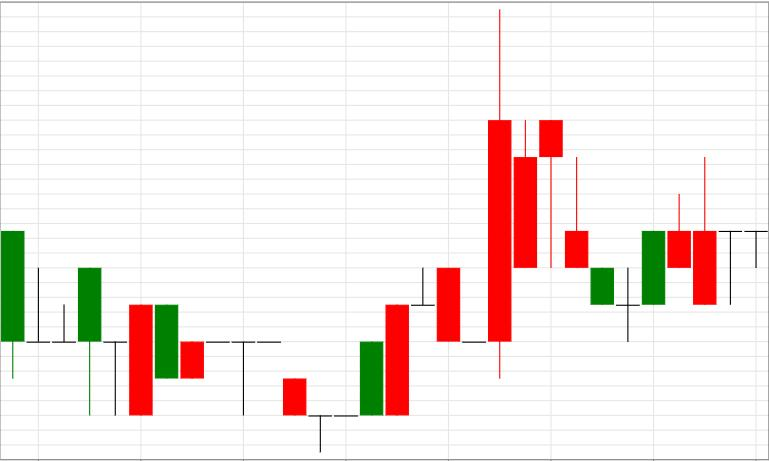hanging_man_fall: (436, 9, 563, 379)
